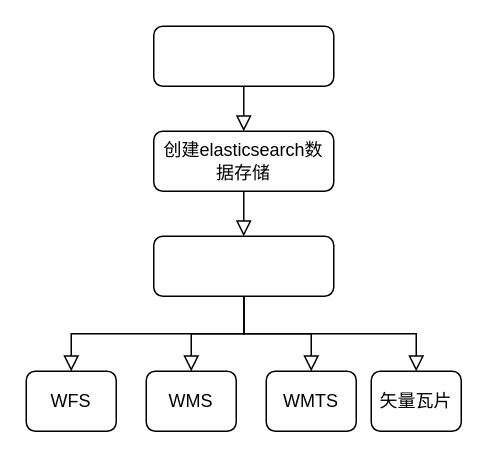
This 488x458 diagram has some shape labels left out. The centre of each missing label's shape, as x and y in pixels:
安装 Elasticgeo插件: [243,55]
选择索引的mapping 发布图层: [243,265]
